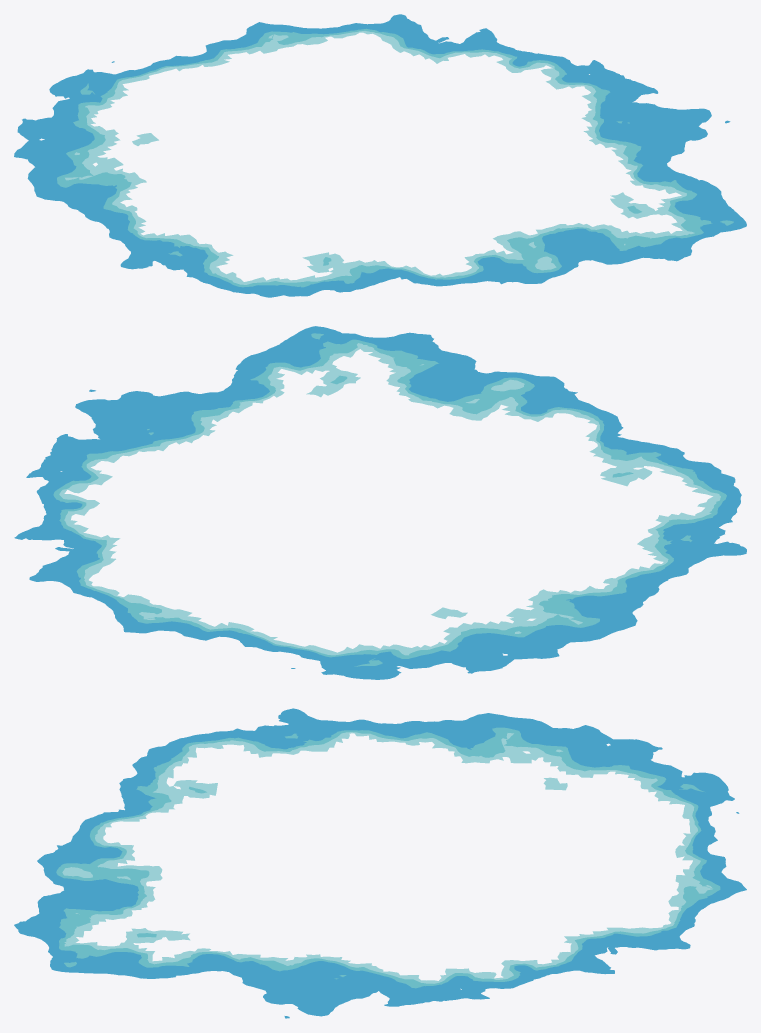
The model's file is Isl-rocky4-Water.fbx.
3 views of the same model, one above another, from view 1: azimuth 30°, elevation 25°; view 2: azimuth 150°, elevation 25°; view 3: azimuth 270°, elevation 25° (orthographic). The views are drawn at different scales.
Parts seen in each view (by area): view 1: Isl-rocky4-Water; view 2: Isl-rocky4-Water; view 3: Isl-rocky4-Water.
Part boxes in pixels (x1,y1,x2,y2): Isl-rocky4-Water: (14, 14, 746, 297); Isl-rocky4-Water: (14, 326, 746, 679); Isl-rocky4-Water: (14, 708, 746, 1018).
Bounding box in the file's own units: 105 × 0 × 105.
